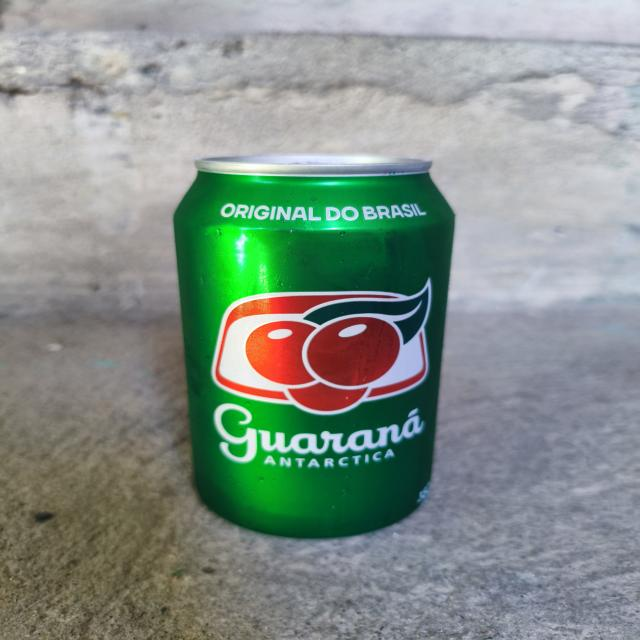Guarana: (181, 138, 442, 546)
